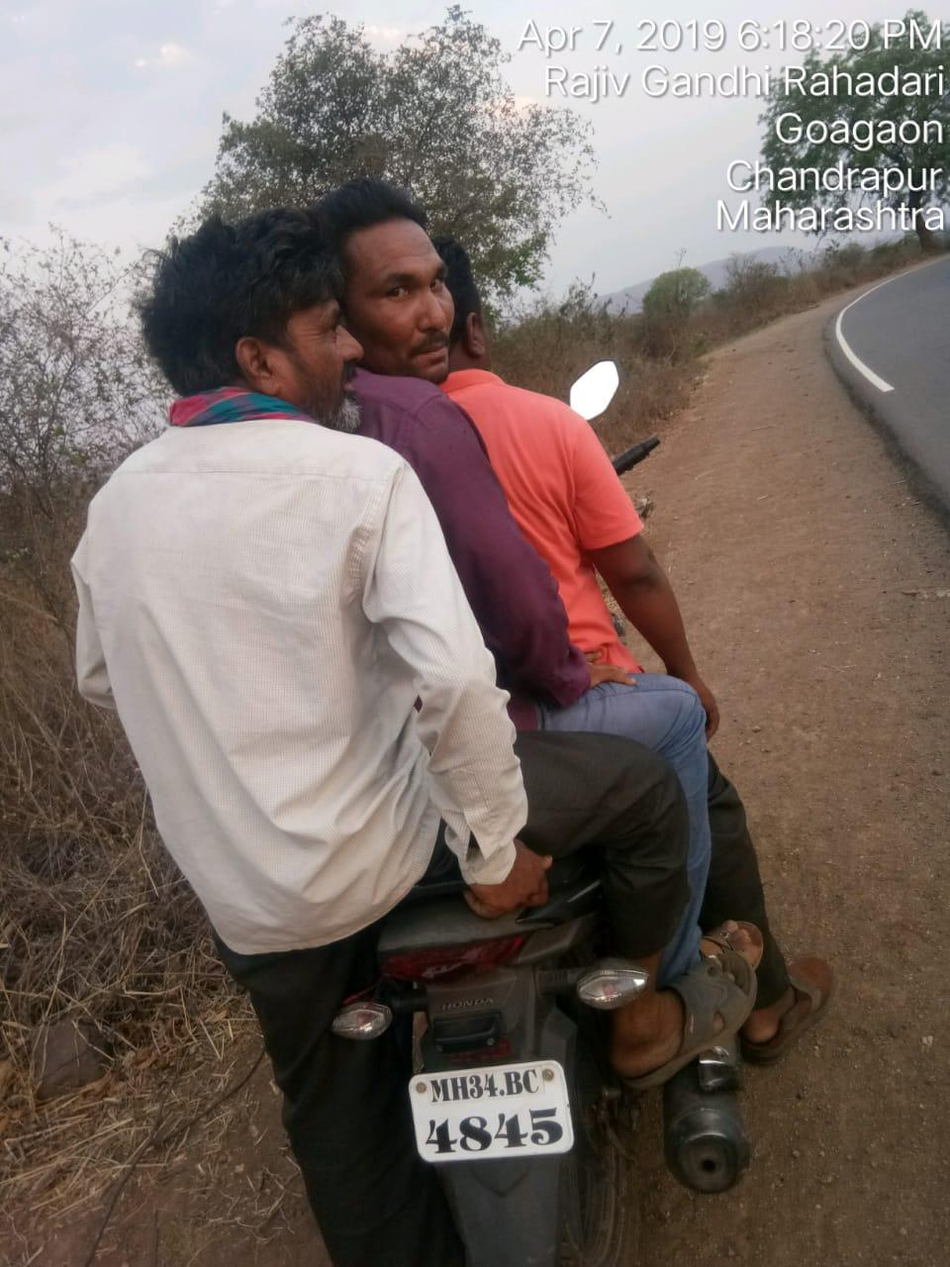plate: (405, 1057, 586, 1175)
